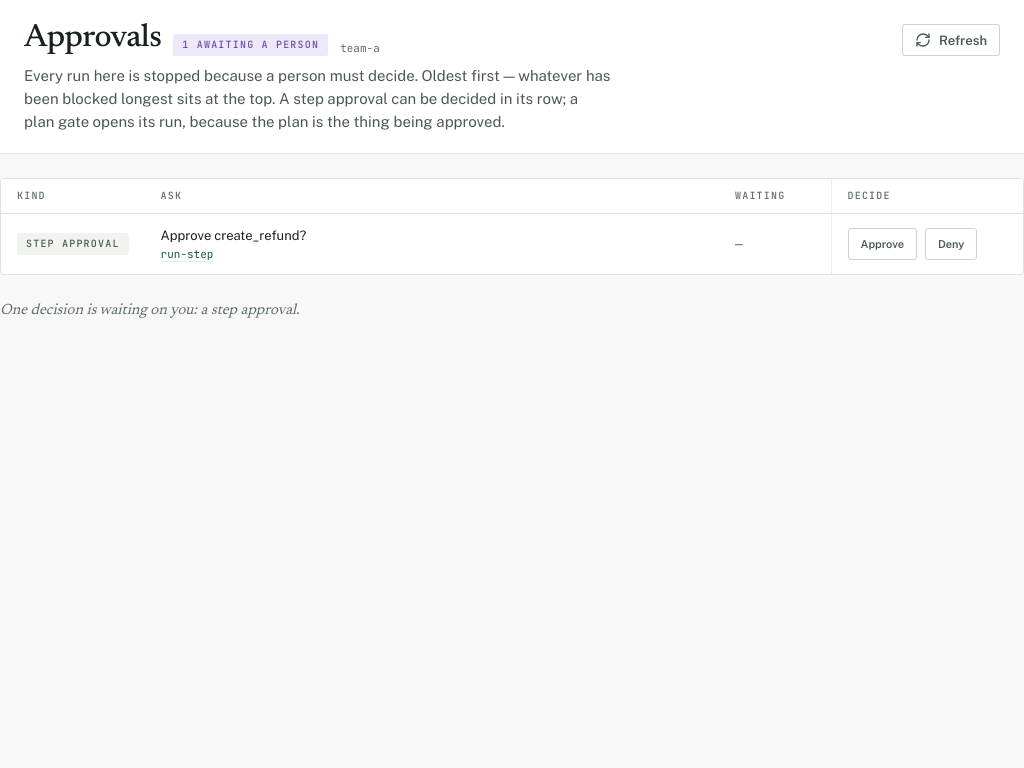
ApprovalsPage — inline decide (§4.4 queue budget) › Approve posts decision=approve and the row leaves the queue
The image size is (1024, 768).
Click the button with test id "approvals-approve-run-step": (882, 244) [848, 228, 917, 260]
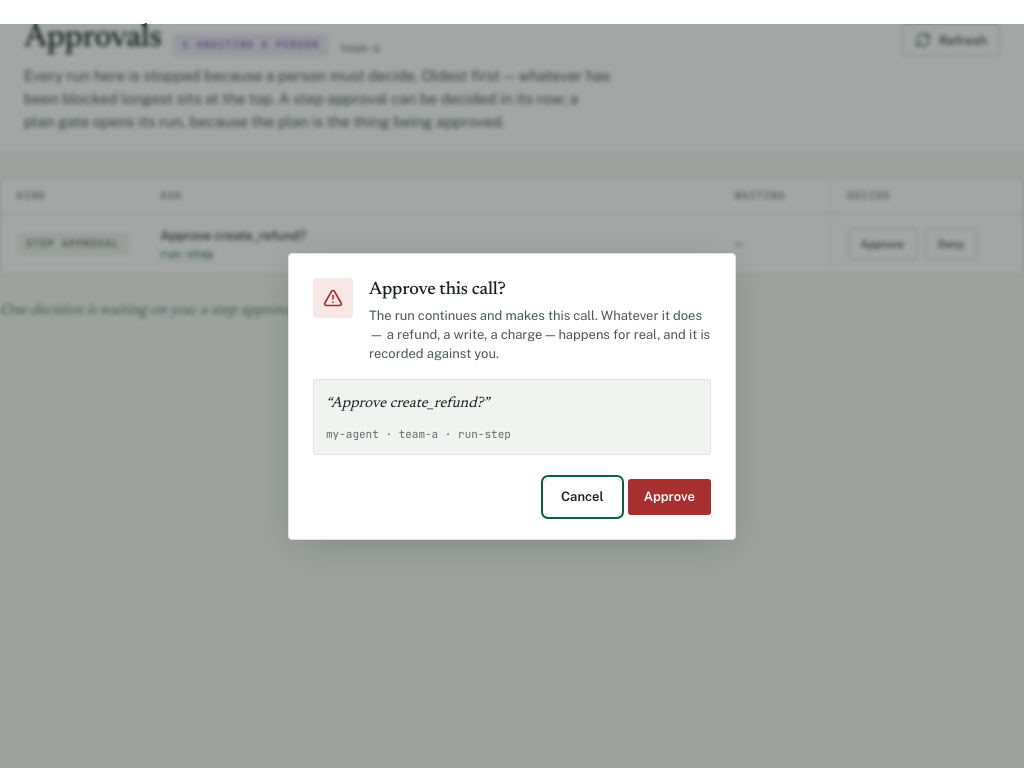
Click the button "Approve": (669, 496) [628, 478, 711, 514]
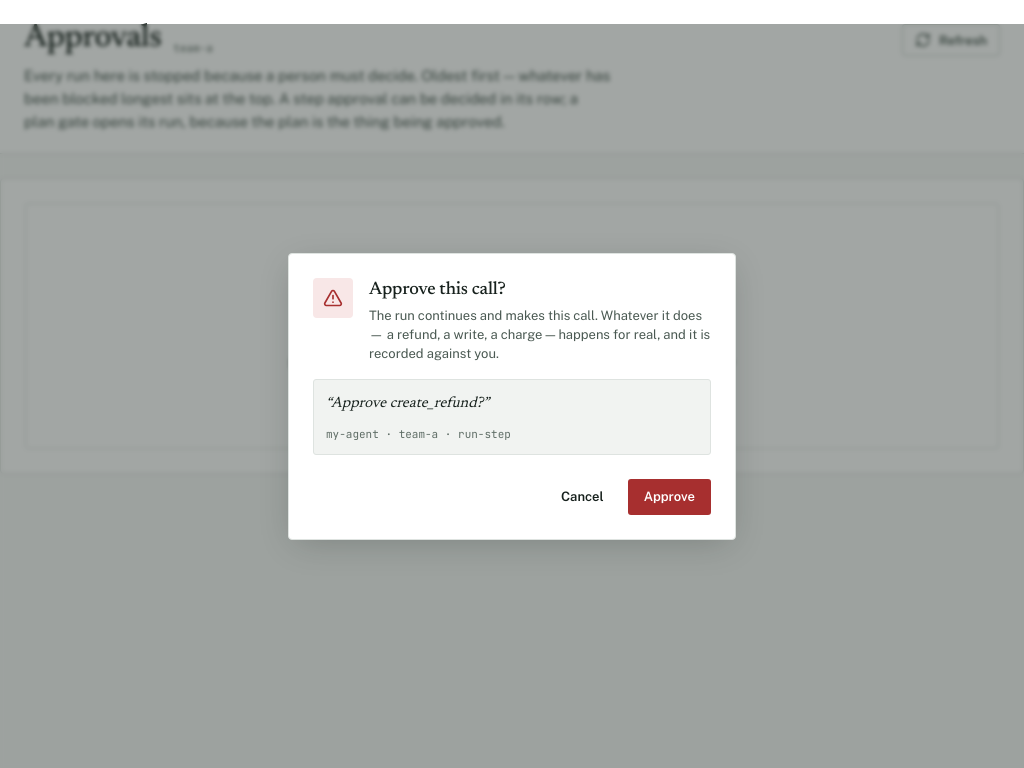
Expected: the button with test id "approvals-approve-run-step" is gone
